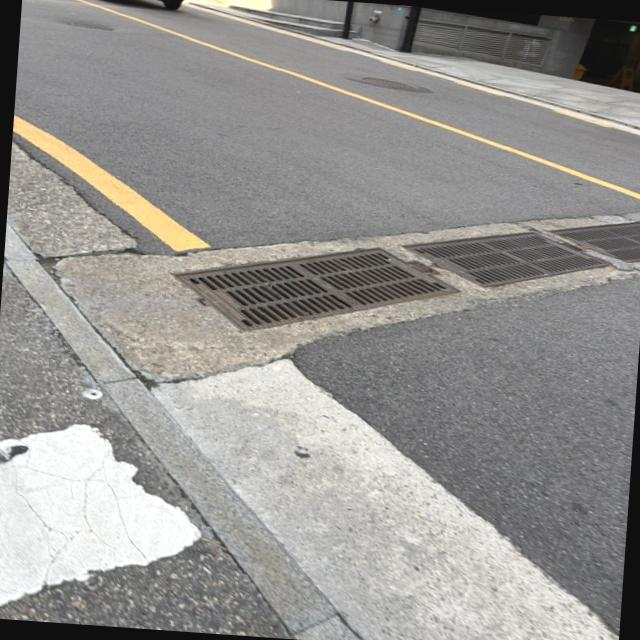drain_area: (177, 249, 459, 331), (404, 232, 607, 288)
drain_full: (178, 248, 458, 331), (404, 232, 607, 288)
